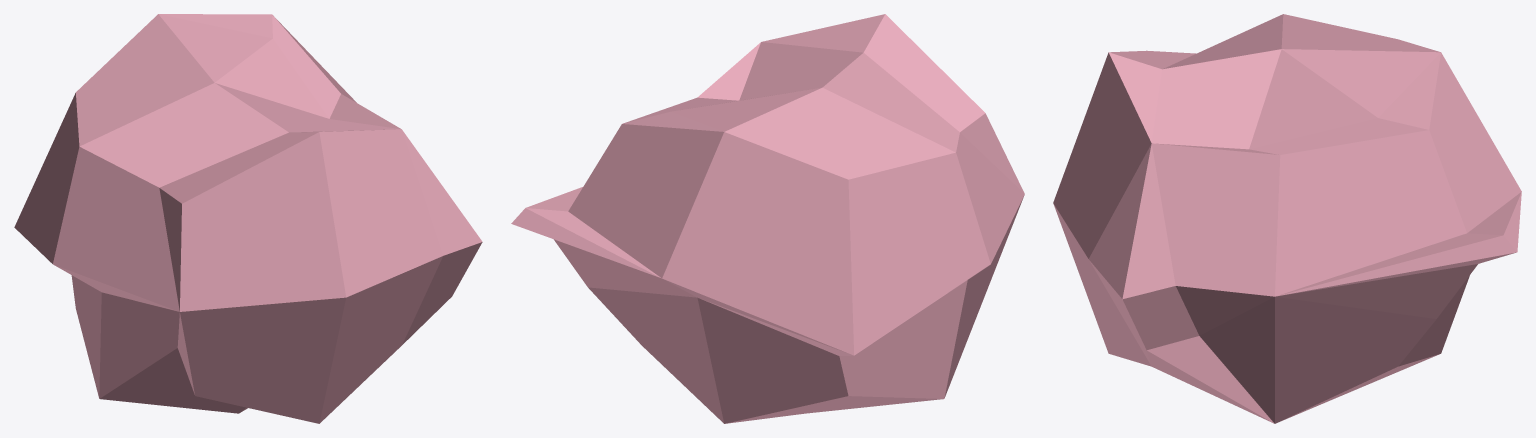
Rendered from PaperRubbish.fbx.
3 views of the same model, side by side, from view 1: azimuth 30°, elevation 25°; view 2: azimuth 150°, elevation 25°; view 3: azimuth 270°, elevation 25° (orthographic). The views are drawn at different scales.
Parts seen in each view (by area): view 1: PaperRubbish; view 2: PaperRubbish; view 3: PaperRubbish.
Part boxes in pixels (left/top/right/bottom): PaperRubbish: left=14, top=14, right=482, bottom=423; PaperRubbish: left=511, top=14, right=1024, bottom=423; PaperRubbish: left=1053, top=14, right=1521, bottom=423.
Bounding box in the file's own units: 14.23 × 12.45 × 15.04.
